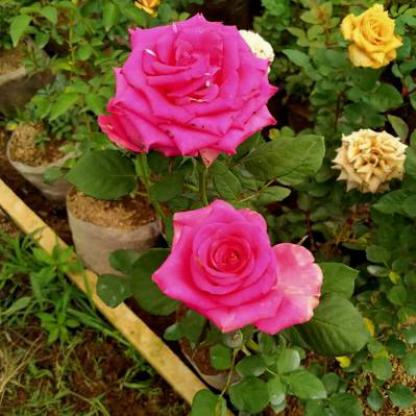Rose-Mawar: (102, 11, 287, 179), (147, 195, 329, 351), (335, 119, 415, 203)
